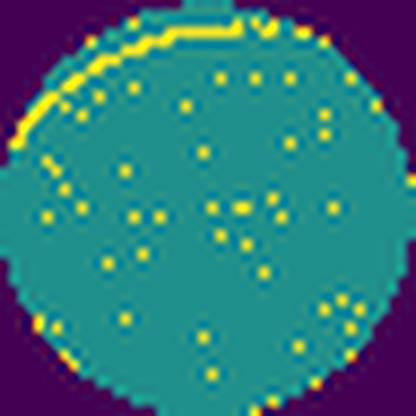Scratch: (8, 14, 249, 156)
